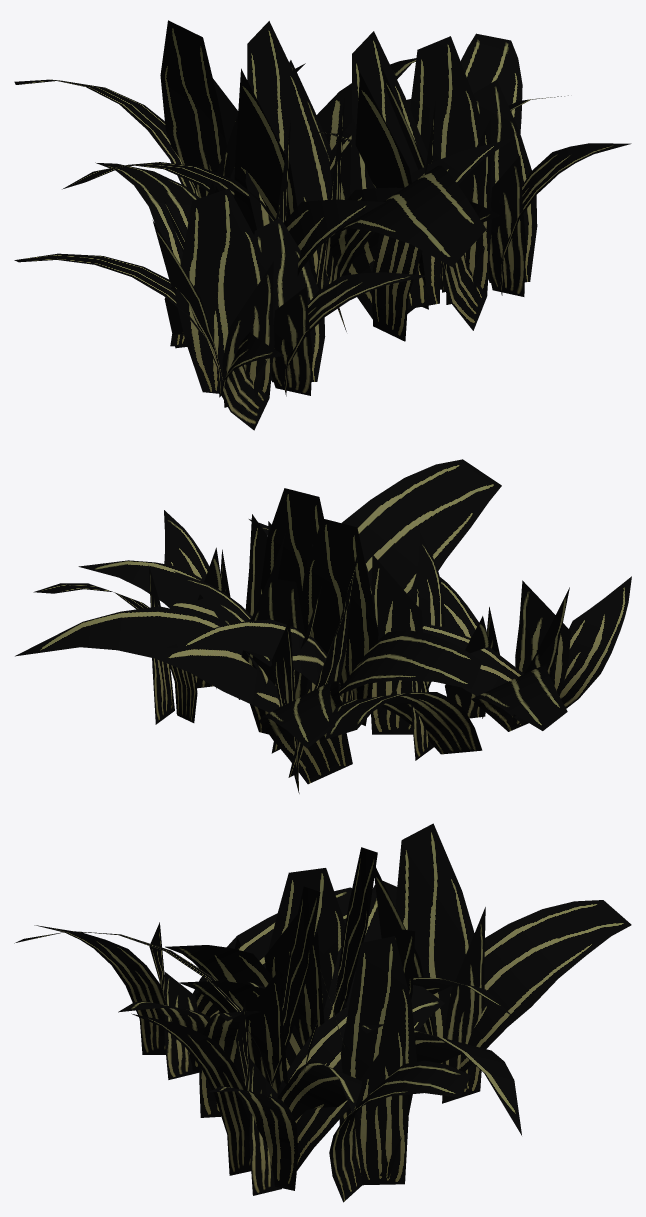
Rendered from SM_Grass_03.fbx.
3 views of the same model, one above another, from view 1: azimuth 30°, elevation 25°; view 2: azimuth 150°, elevation 25°; view 3: azimuth 270°, elevation 25° (orthographic). The views are drawn at different scales.
Parts seen in each view (by area): view 1: SM_Grass_03; view 2: SM_Grass_03; view 3: SM_Grass_03.
Boxes of the visible parts, left/top/right/bottom form: SM_Grass_03: left=14, top=20, right=631, bottom=430; SM_Grass_03: left=15, top=459, right=631, bottom=793; SM_Grass_03: left=14, top=823, right=631, bottom=1202.
Bounding box in the file's own units: 110 × 112 × 53.82.
Materials: 1 (1 with a texture image).
